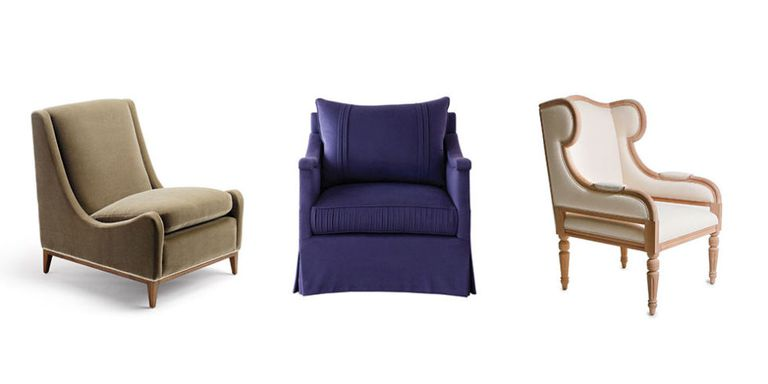chairs: (26, 96, 246, 310), (536, 94, 722, 318), (291, 97, 481, 302)
